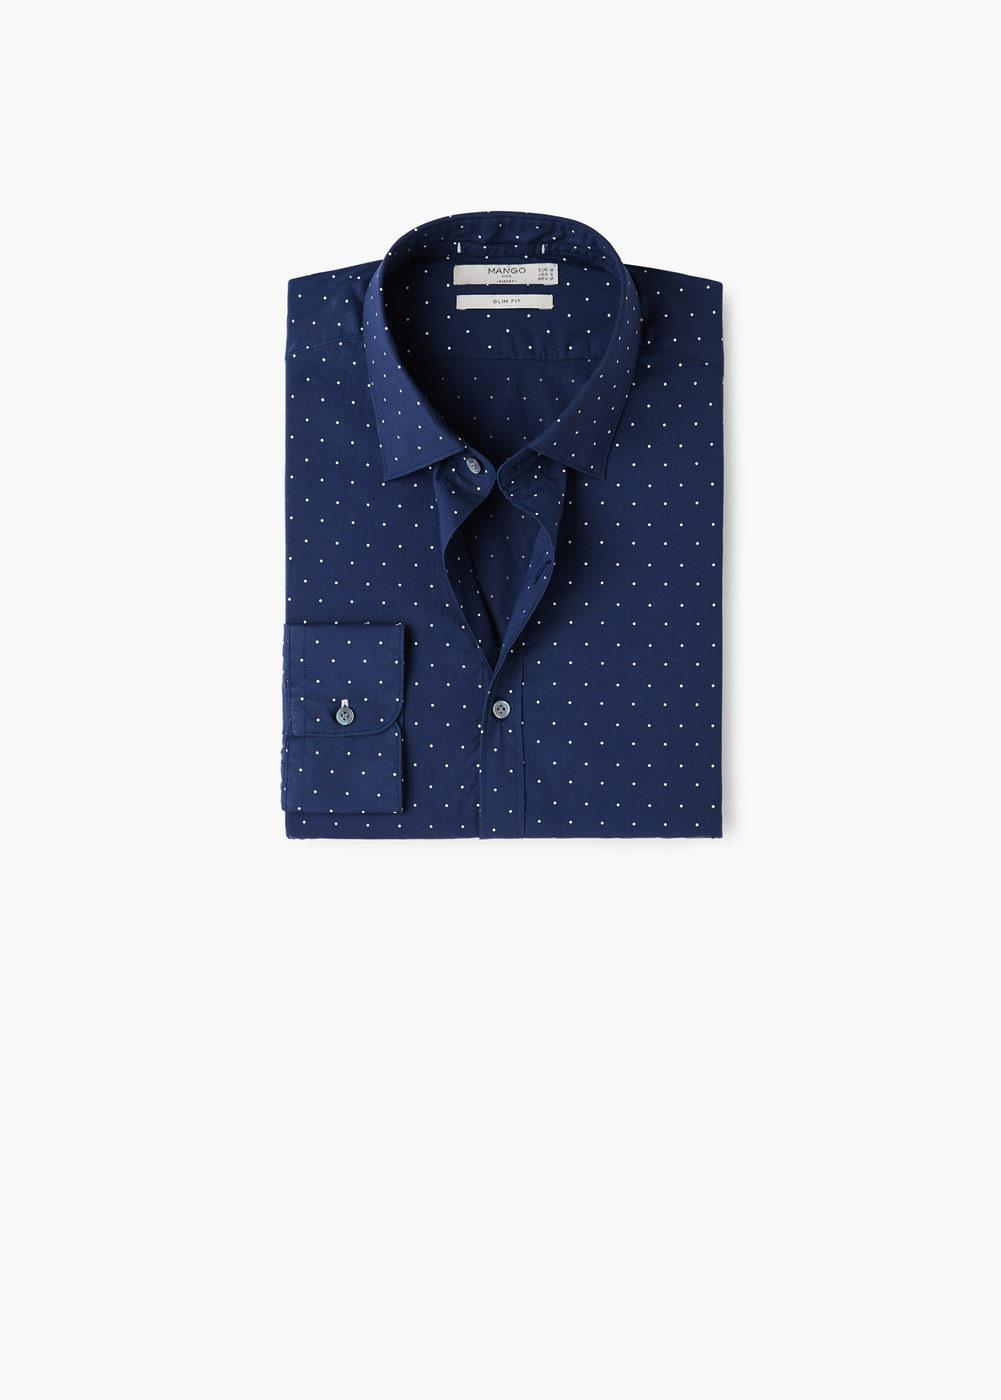teeshirt: (257, 204, 755, 861)
